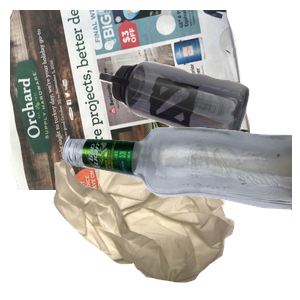glass: (60, 124, 300, 300)
paper: (10, 10, 250, 190)
plastic: (97, 59, 300, 197)
trash: (51, 142, 278, 300)
